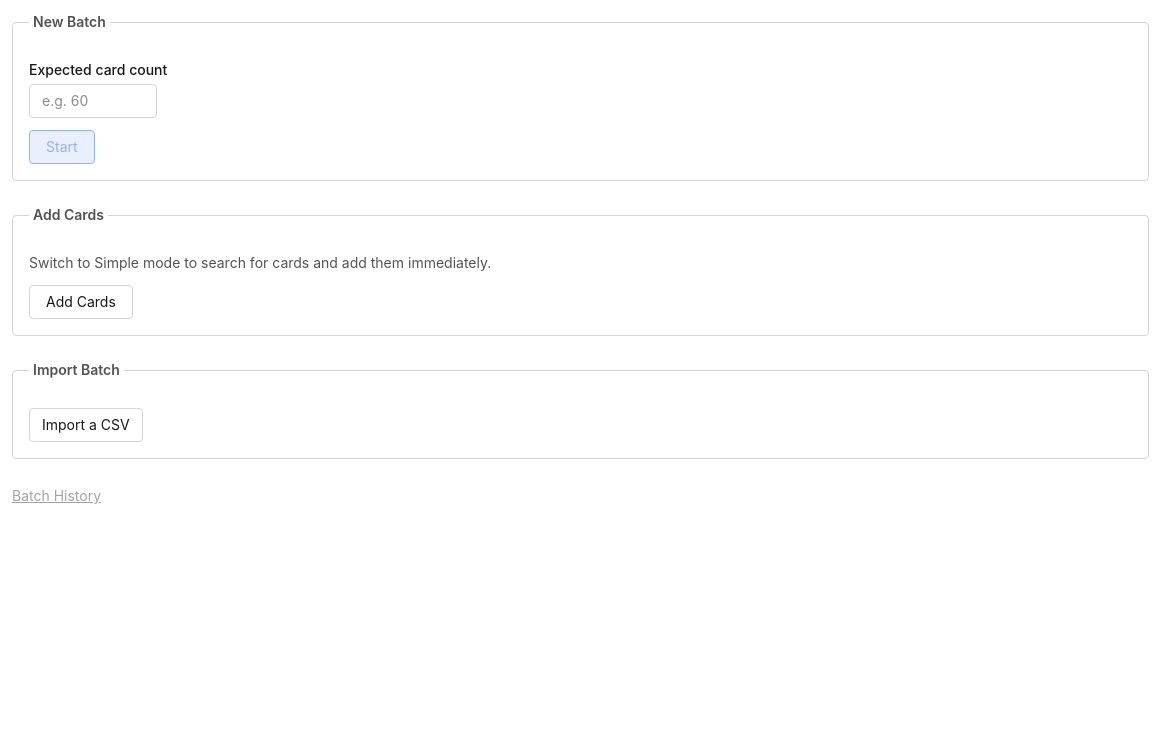
Scenario: BatchBuilderForm › shows a visible error when starting fails
Type "60" into the number field labelled "Expected card count".
click(93, 101); type("60")  # box x1=29 y1=84 x2=157 y2=118
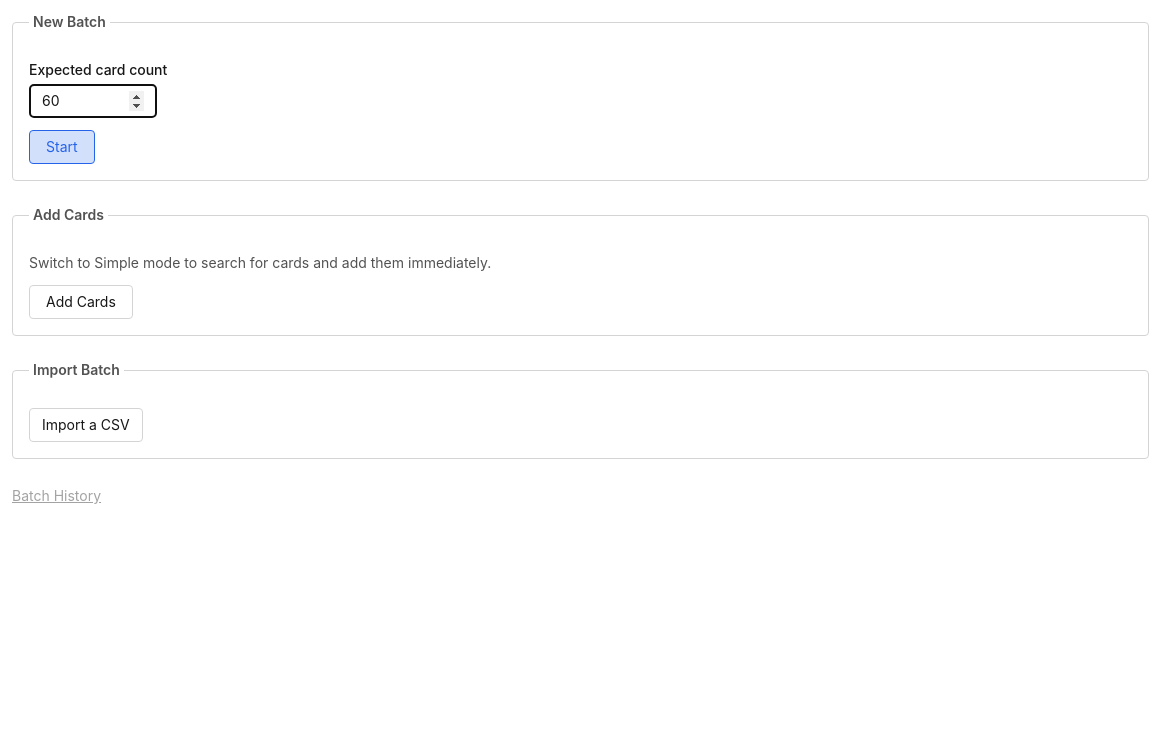
Click the button "Start".
click(62, 147)  # box x1=29 y1=130 x2=95 y2=164
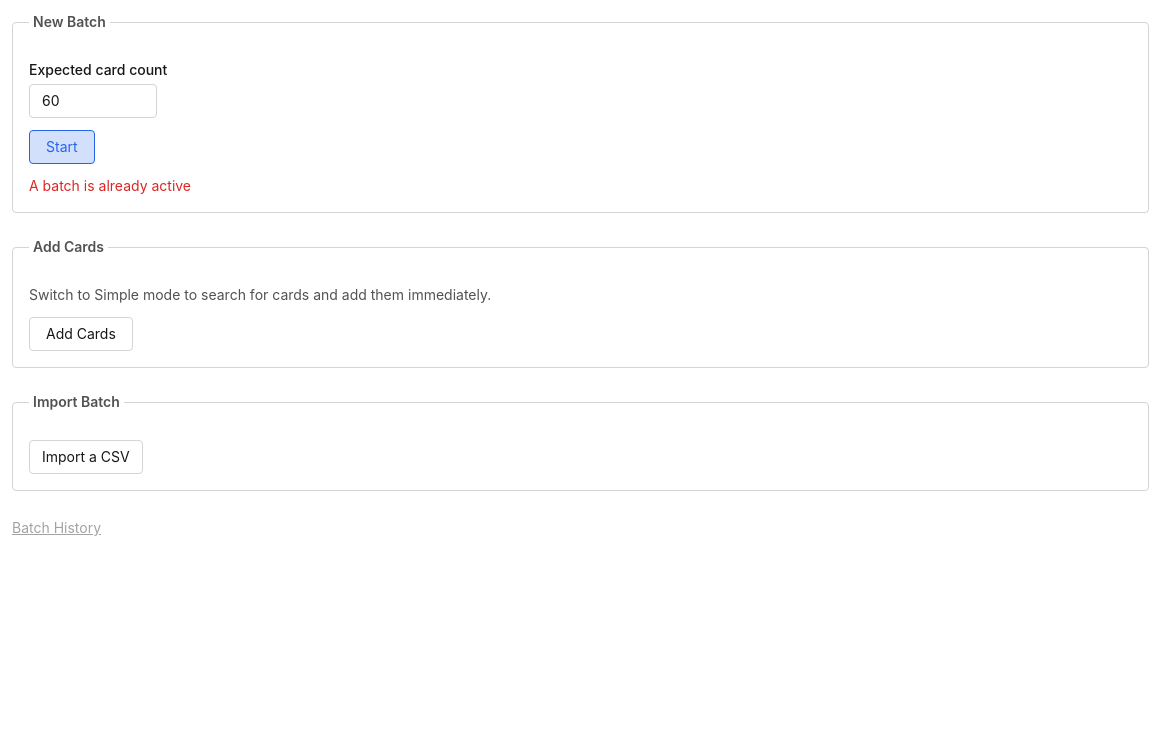
Check: the message reads "A batch is already active", box x1=29 y1=177 x2=191 y2=194
